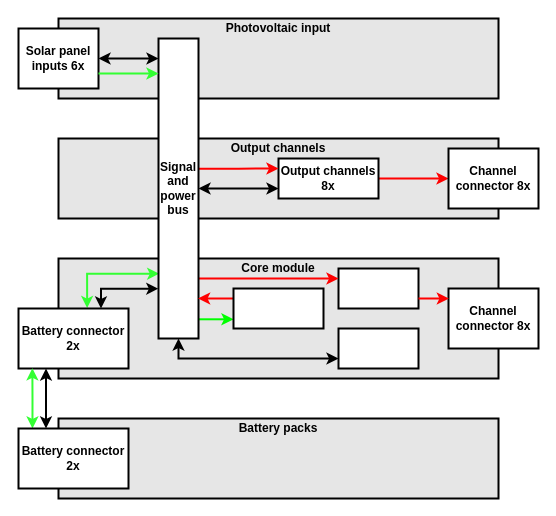
The diagram is 556 pixels wide and 516 high, and some of its shapes have lost their labels. Each missing label, with the centre of its shape:
"BUS channels 2x" belongs at (378,288).
"MAIN SWITCH" belongs at (278,308).
"MCU" belongs at (378,348).
